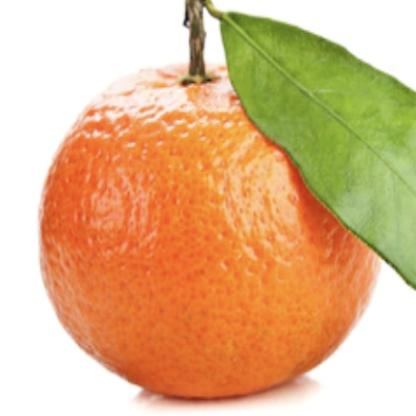fresh: (33, 51, 379, 401)
